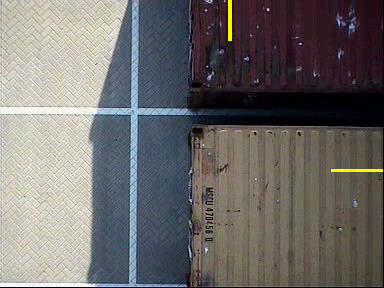groundmarker_2: (100, 74, 170, 119), (105, 215, 174, 260)
